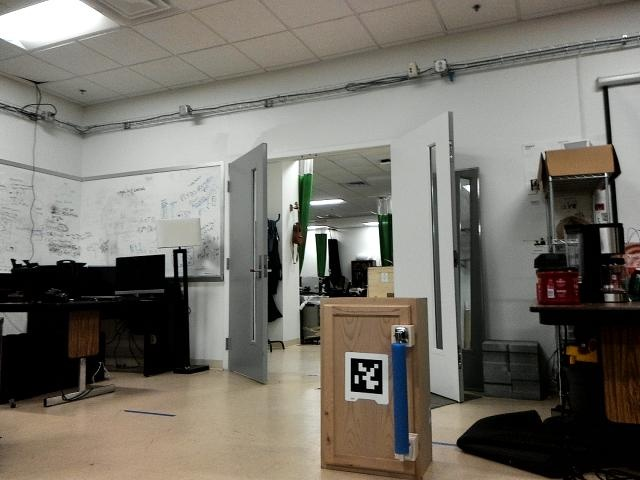noodle_handle: (388, 340, 412, 458)
